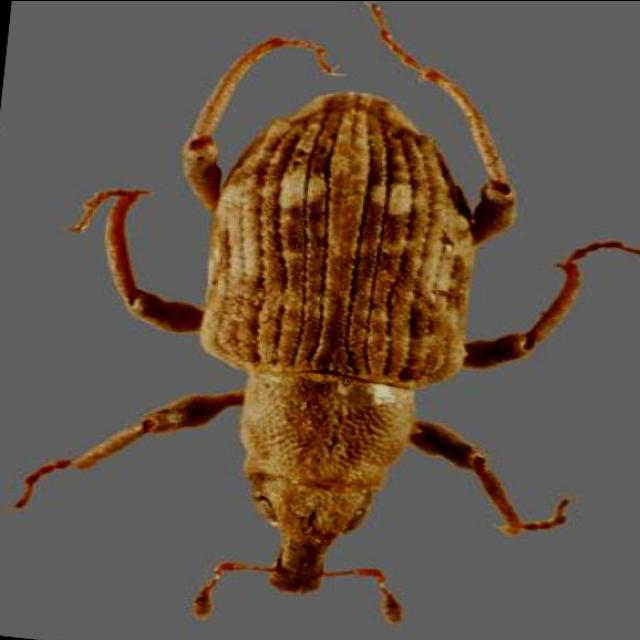ricebug: (17, 33, 640, 617)
